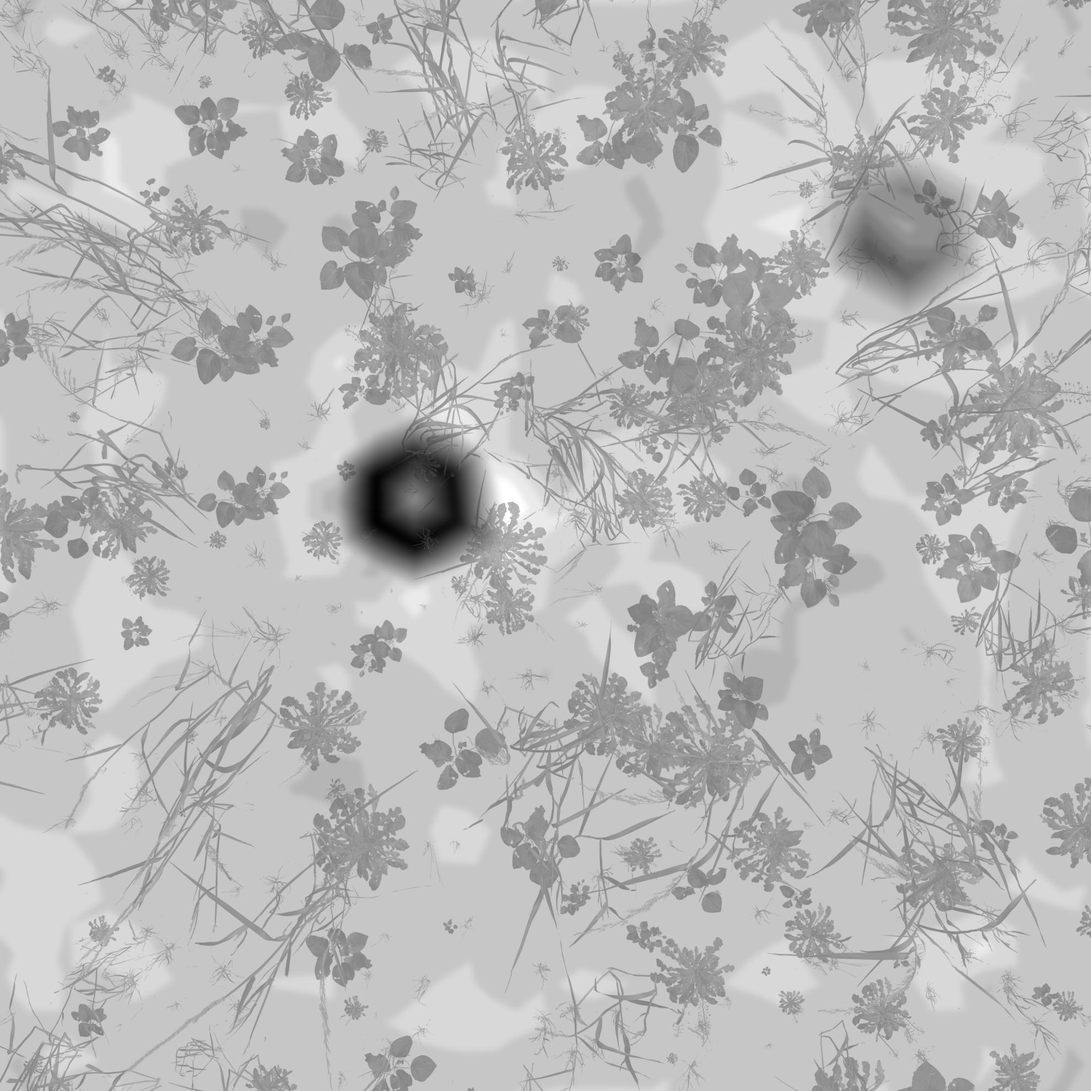landmine: (333, 433, 491, 580), (816, 161, 982, 300)
